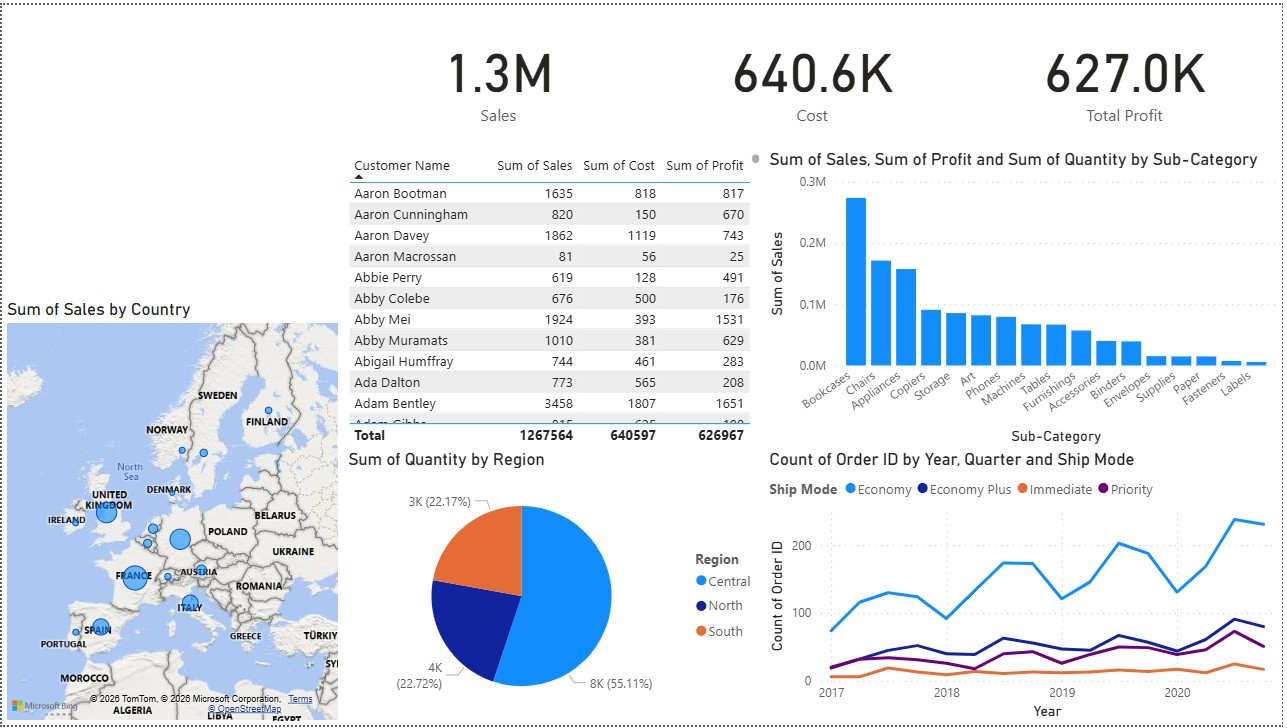

What the dashboard file says about the page in this screenshot:
{"tool":"powerbi","page":{"name":"Page 1","canvas":[1280,720],"ordinal":0},"visuals":[{"type":"card","fields":{"Values":["List of Orders.Sales"]},"box":[340.2,0,313.3,143.2],"z":0},{"type":"card","fields":{"Values":["List of Orders.Cost"]},"box":[653.5,0,313.3,143.2],"z":1000},{"type":"card","fields":{"Values":["List of Orders.Profit"]},"box":[966.7,0,313.3,143.2],"z":2000},{"type":"tableEx","fields":{"Values":["List of Orders.Customer Name","List of Orders.Sales","List of Orders.Cost","List of Orders.Profit"]},"box":[340.7,143.4,422.1,300.7],"z":3000},{"type":"clusteredColumnChart","fields":{"Category":["List of Orders.Sub-Category"],"Y":["List of Orders.Sales"]},"box":[762.8,143.4,517.2,300.7],"z":4000},{"type":"lineChart","fields":{"Y":["List of Orders.Order ID"],"Category":["List of Orders.Order Date.Variation.Date Hierarchy.Year","List of Orders.Order Date.Variation.Date Hierarchy.Quarter"],"Series":["List of Orders.Ship Mode"]},"box":[762.8,444.1,517.2,275.9],"z":5000},{"type":"pieChart","fields":{"Y":["List of Orders.Quantity"],"Category":["List of Orders.Region"]},"box":[340.7,444.1,422.1,275.9],"z":6000},{"type":"map","fields":{"Category":["List of Orders.Country"],"Size":["List of Orders.Sales"]},"box":[0,293.8,340.7,426.2],"z":7000}]}

Visuals, with their boxes in screenshot pixels (x1, y1, x2, y2), scaled from the page's 1280x720 canvas onto the 1287x728 screenshot:
card - List of Orders.Sales: box=[342, 0, 657, 145]
card - List of Orders.Cost: box=[657, 0, 972, 145]
card - List of Orders.Profit: box=[972, 0, 1286, 145]
tableEx - List of Orders.Customer Name x List of Orders.Sales: box=[343, 145, 767, 449]
clusteredColumnChart - List of Orders.Sub-Category x List of Orders.Sales: box=[767, 145, 1286, 449]
lineChart - List of Orders.Order ID x List of Orders.Order Date.Variation.Date Hierarchy.Year: box=[767, 449, 1286, 727]
pieChart - List of Orders.Quantity x List of Orders.Region: box=[343, 449, 767, 727]
map - List of Orders.Country x List of Orders.Sales: box=[0, 297, 343, 727]
